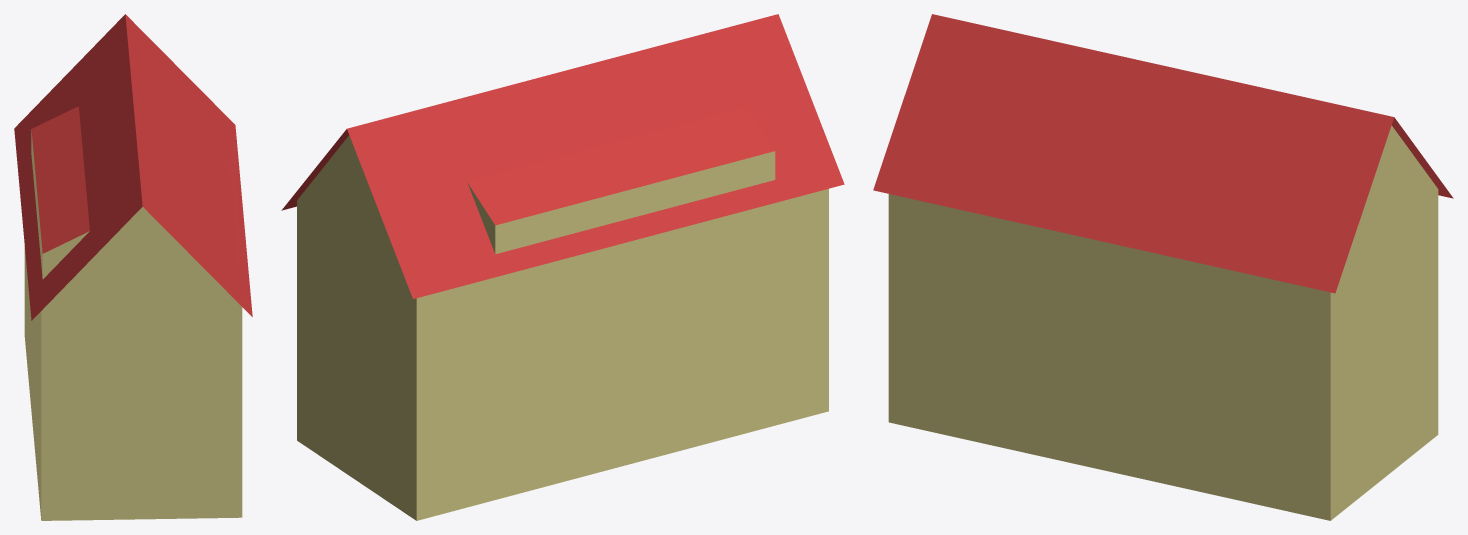
3 renders of one model, left to right at view 1: azimuth 30°, elevation 25°; view 2: azimuth 150°, elevation 25°; view 3: azimuth 270°, elevation 25°, orthographic. The views are drawn at different scales.
Size of the model in its own units: 20.17 by 25.01 by 17.26.
